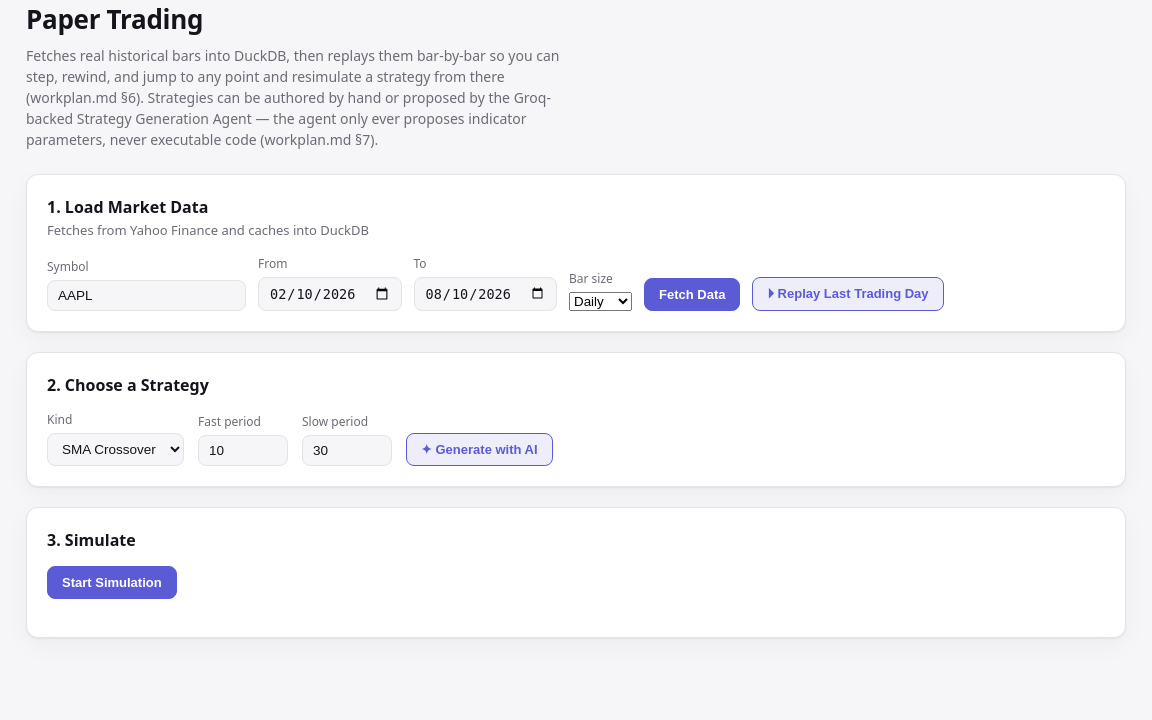
Test: PaperTrading page › performance section › dashes out win rate and profit factor before any trade has closed
Click the button "Start Simulation": (112, 582) [47,566,177,598]
(page scrolled)
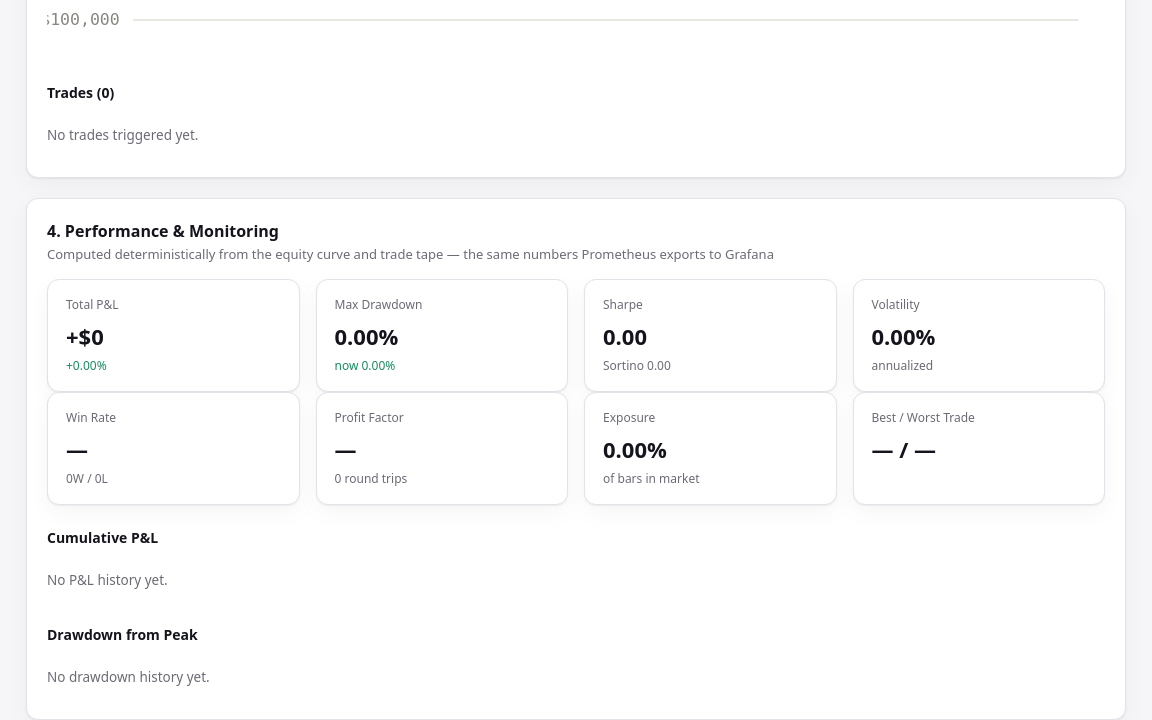
Result: the text "Win Rate" is shown at [66,409,116,426]
Result: the text "—" is shown 2 times at [66,434,88,464]; [334,434,356,464]
Result: the text "— / —" is shown at [872,434,936,464]
